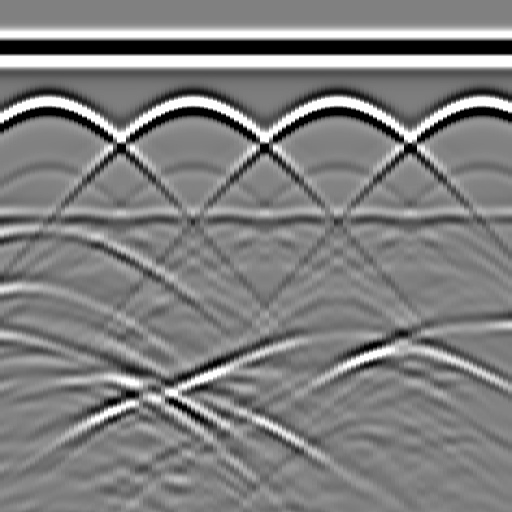grout_surface: (1, 203, 512, 233)
rebar: (26, 85, 66, 125), (170, 85, 210, 125), (315, 85, 355, 125), (459, 85, 499, 125)
rock_surface: (1, 322, 511, 401)
water_void: (1, 207, 61, 247)
